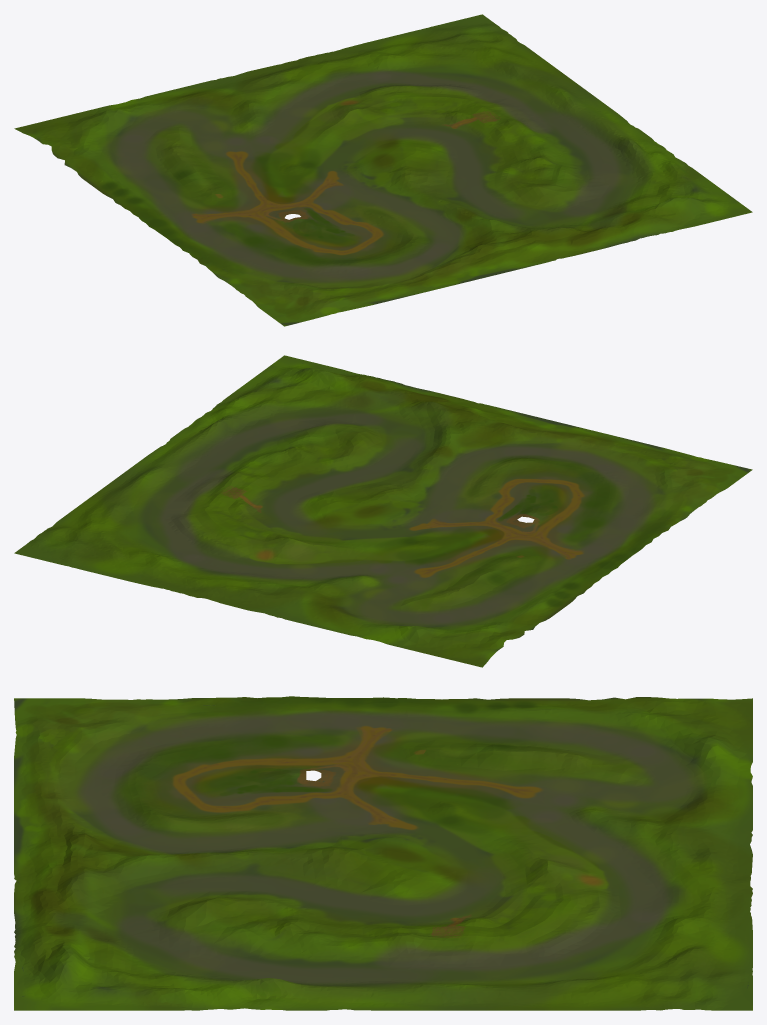
Rendered from forestground(1).fbx.
3 renders of one model, top to bottom at view 1: azimuth 30°, elevation 25°; view 2: azimuth 150°, elevation 25°; view 3: azimuth 270°, elevation 25°, orthographic. The views are drawn at different scales.
Visible parts, largest first — view 1: Plane; view 2: Plane; view 3: Plane.
Boxes of the visible parts, x1,y1,x2,y2 form: Plane: [14, 14, 752, 326]; Plane: [14, 355, 752, 667]; Plane: [14, 696, 752, 1010].
Size of the model in its own units: 20001 by 541 by 20002.
